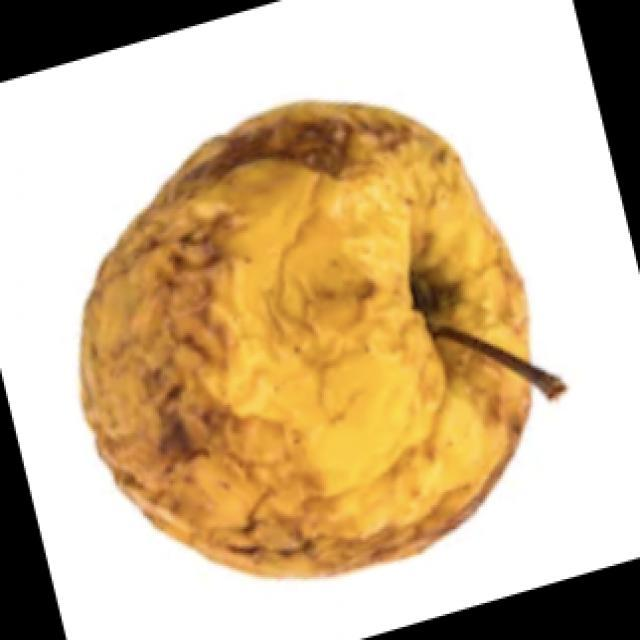Rotten: (69, 93, 538, 570)
